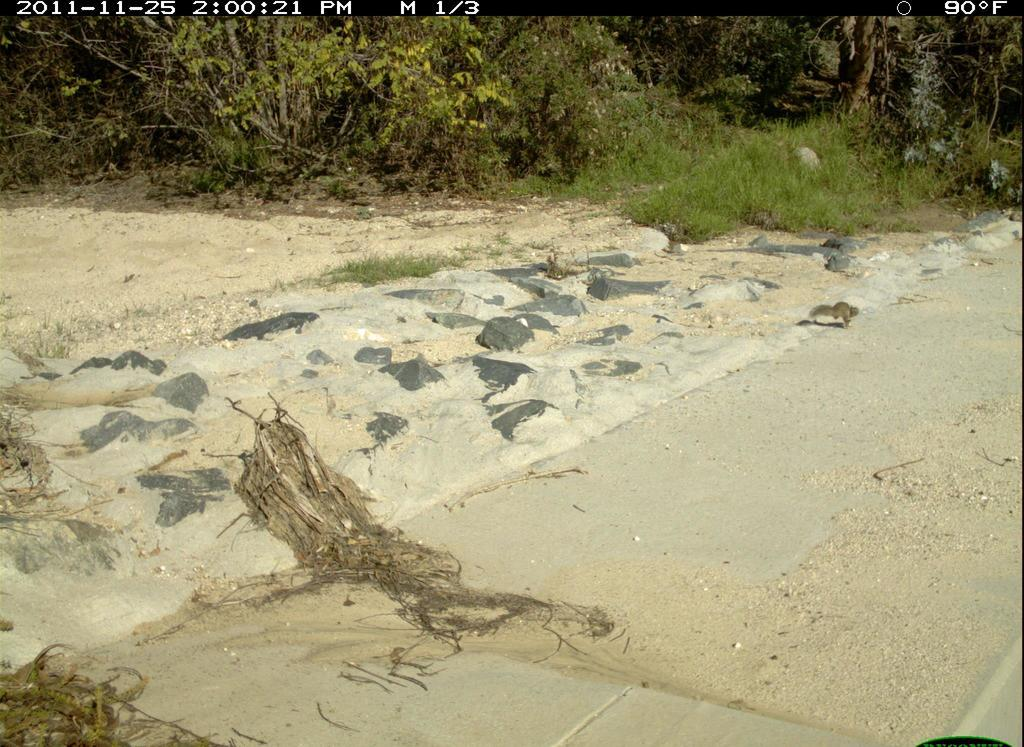squirrel: (807, 299, 862, 333)
